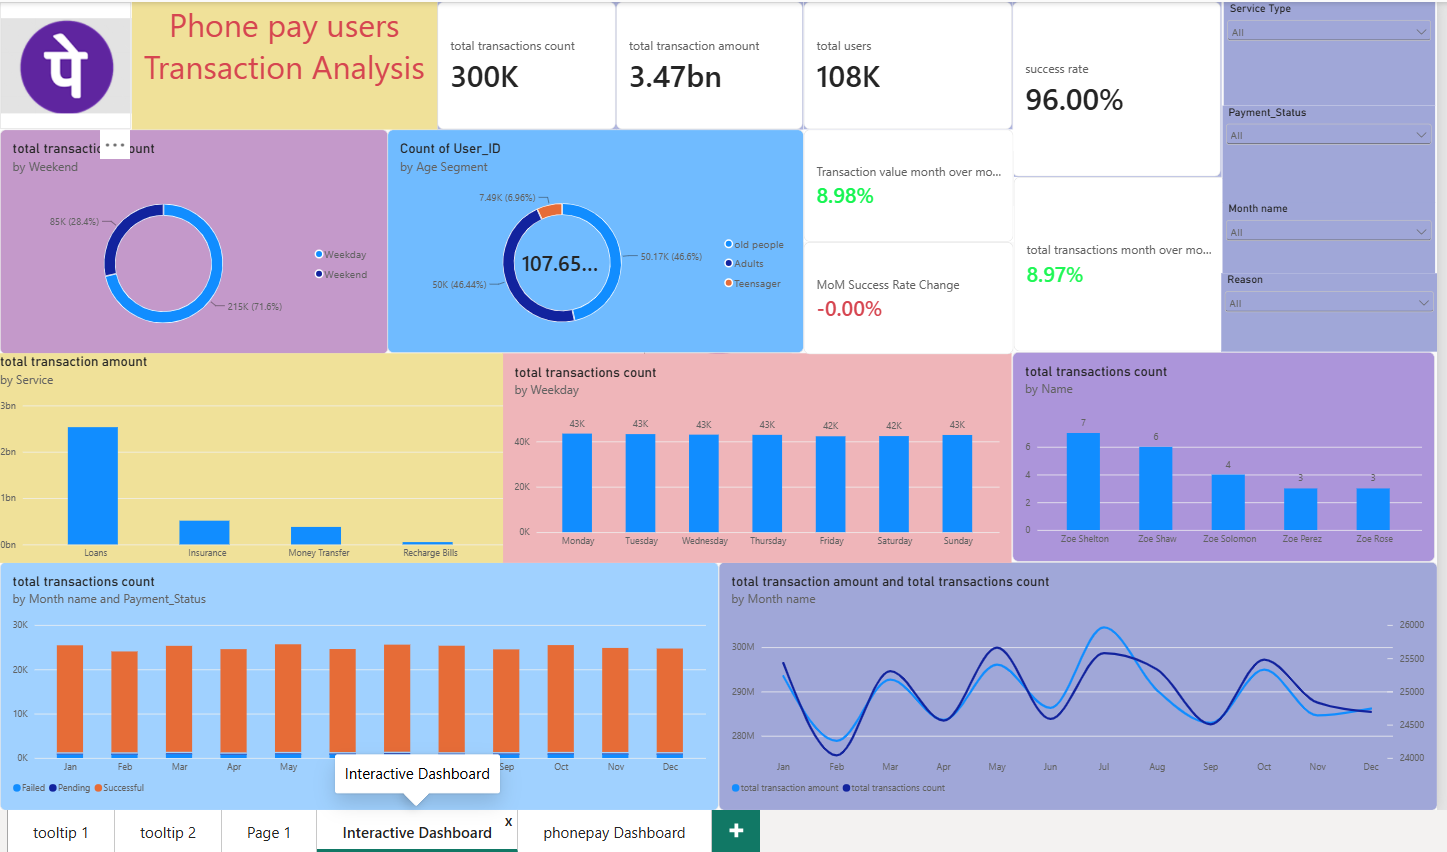

This screenshot's page, from the dashboard's own definition file:
{"tool":"powerbi","page":{"name":"Interactive Dashboard","canvas":[1920,1080],"ordinal":3},"visuals":[{"type":"lineChart","fields":{"Category":["Date_Table.Month name"],"Y":["measures (2).total transaction amount"],"Y2":["measures (2).total transactions count"]},"box":[0,1451.3,1711.9,709.4],"z":0},{"type":"cardVisual","fields":{"Data":["measures (2).total transactions count"]},"box":[584.5,0,238.9,170.1],"z":1000},{"type":"cardVisual","fields":{"Data":["measures (2).total transaction amount"]},"box":[823.4,0,249.7,170.1],"z":2000},{"type":"cardVisual","fields":{"Data":["measures (2).total users"]},"box":[1074,0,278,170],"z":3000},{"type":"cardVisual","fields":{"Data":["measures (2).success rate"]},"box":[1352.5,0,278.9,233.8],"z":4000},{"type":"donutChart","fields":{"Category":["Date_Table.Weekend"],"Y":["measures (2).total transactions count"]},"box":[0,170,518,300],"z":5000},{"type":"columnChart","fields":{"Category":["Date_Table.Month name"],"Series":["All_Transactions.Payment_Status"],"Y":["measures (2).total transactions count"]},"box":[0,748,960,332],"z":6000},{"type":"lineChart","fields":{"Category":["Date_Table.Month name"],"Y":["measures (2).total transaction amount"],"Y2":["measures (2).total transactions count"]},"box":[960,748,960,332],"z":7000},{"type":"columnChart","fields":{"Category":["Date_Table.Weekday"],"Y":["measures (2).total transactions count"]},"box":[671.4,468.7,680,280],"z":8000},{"type":"columnChart","fields":{"Category":["All_Transactions.Service"],"Y":["measures (2).total transaction amount"]},"box":[0,470,672,280],"z":9000},{"type":"columnChart","fields":{"Category":["All_Users.Name"],"Y":["measures (2).total transactions count"]},"box":[1352,468,564,280],"z":10000},{"type":"donutChart","fields":{"Category":["All_Users.Age Segment"],"Y":["CountNonNull(All_Users.User_ID)"]},"box":[517.6,170.1,556,298],"z":11000},{"type":"cardVisual","fields":{"Data":["measures (2).total transactions month over month growth%"]},"box":[1354.2,233.8,283.9,233.8],"z":12000},{"type":"textbox","box":[175.5,0,409,170.1],"z":13000},{"type":"slicer","fields":{"Values":["Date_Table.Month name"]},"box":[1633,267.2,283.9,95.2],"z":14000},{"type":"slicer","fields":{"Values":["All_Transactions.Payment_Status"]},"box":[1633,138.6,283.9,128.6],"z":15000},{"type":"slicer","fields":{"Values":["All_Transactions.Service Type"]},"box":[1634.7,0,282.2,138.6],"z":16000},{"type":"cardVisual","fields":{"Data":["measures (2).Transaction value month over month growth%"]},"box":[1073.7,170.3,280.5,150.2],"z":17000},{"type":"cardVisual","fields":{"Data":["measures (2).MoM Success Rate Change"]},"box":[1073.7,320.6,280.5,150.2],"z":18000},{"type":"image","box":[0,0,176,170],"z":18001},{"type":"slicer","fields":{"Values":["All_Transactions.Reason"]},"box":[1631.4,362.3,288.9,105.2],"z":18002}]}

Visuals, with their boxes on the page's 1920x1080 design canvas (x1, y1, x2, y2). These are canvas units, not pixel positions in the 1447x852 screenshot, which may show the page scaled, cropped or inside an application window:
lineChart - Date_Table.Month name x measures (2).total transaction amount: 0, 1451, 1712, 2161
cardVisual - measures (2).total transactions count: 584, 0, 823, 170
cardVisual - measures (2).total transaction amount: 823, 0, 1073, 170
cardVisual - measures (2).total users: 1074, 0, 1352, 170
cardVisual - measures (2).success rate: 1352, 0, 1631, 234
donutChart - Date_Table.Weekend x measures (2).total transactions count: 0, 170, 518, 470
columnChart - Date_Table.Month name x All_Transactions.Payment_Status: 0, 748, 960, 1080
lineChart - Date_Table.Month name x measures (2).total transaction amount: 960, 748, 1920, 1080
columnChart - Date_Table.Weekday x measures (2).total transactions count: 671, 469, 1351, 749
columnChart - All_Transactions.Service x measures (2).total transaction amount: 0, 470, 672, 750
columnChart - All_Users.Name x measures (2).total transactions count: 1352, 468, 1916, 748
donutChart - All_Users.Age Segment x CountNonNull(All_Users.User_ID): 518, 170, 1074, 468
cardVisual - measures (2).total transactions month over month growth%: 1354, 234, 1638, 468
textbox: 176, 0, 584, 170
slicer - Date_Table.Month name: 1633, 267, 1917, 362
slicer - All_Transactions.Payment_Status: 1633, 139, 1917, 267
slicer - All_Transactions.Service Type: 1635, 0, 1917, 139
cardVisual - measures (2).Transaction value month over month growth%: 1074, 170, 1354, 320
cardVisual - measures (2).MoM Success Rate Change: 1074, 321, 1354, 471
image: 0, 0, 176, 170
slicer - All_Transactions.Reason: 1631, 362, 1920, 468
